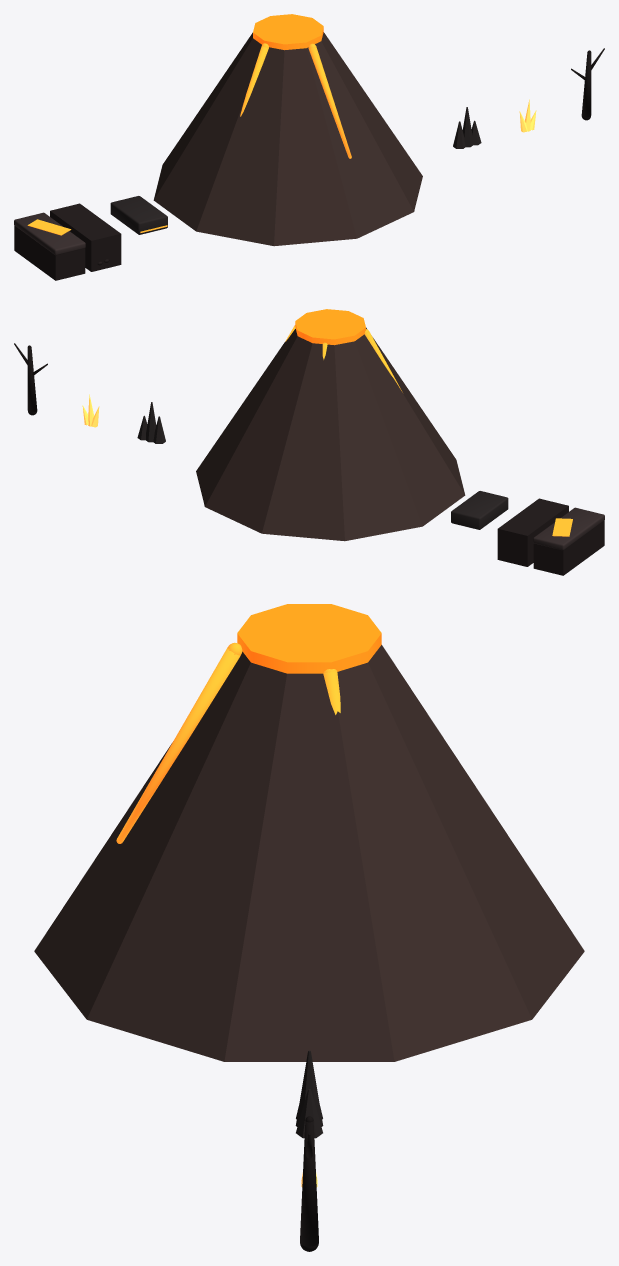
Rendered from kit_volcano.glb.
3 renders of one model, top to bottom at view 1: azimuth 30°, elevation 25°; view 2: azimuth 150°, elevation 25°; view 3: azimuth 270°, elevation 25°, orthographic. The views are drawn at different scales.
Parts seen in each view (by area): view 1: Cone, vol_TF, Crater, vol_TT_dirt, BasaltSlab, vol_TT_cap, Flow3, DTrunk, Flow2; view 2: Cone, vol_TF, Crater, vol_TT_dirt, BasaltSlab, vol_TT_cap, DTrunk; view 3: Cone, Crater, Flow3, DTrunk.
Boxes of the visible parts, x1,y1,x2,y2 form: Cone: (153,32,422,246); vol_TF: (50,203,121,271); Crater: (253,14,323,50); vol_TT_dirt: (14,225,85,280); BasaltSlab: (110,196,167,234); vol_TT_cap: (14,212,85,255); Flow3: (308,43,351,158); DTrunk: (581,50,591,120); Flow2: (240,43,268,116); Cone: (196,327,465,541); vol_TF: (497,498,568,566); Crater: (295,309,365,345); vol_TT_dirt: (533,520,604,575); BasaltSlab: (451,491,508,529); vol_TT_cap: (533,507,604,550); DTrunk: (27,345,37,415); Cone: (34,645,584,1061); Crater: (237,604,381,673); Flow3: (116,642,242,843); DTrunk: (300,1116,318,1251).
Bounding box in the file's own units: 19.14 × 5.6 × 8.
